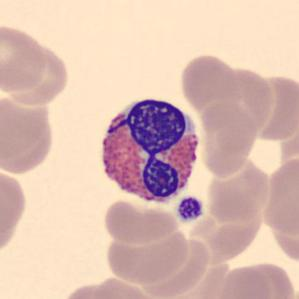Eosinophil: (92, 91, 205, 212)
Platelets: (175, 194, 205, 223)
RBC: (103, 223, 191, 286), (129, 233, 214, 298), (208, 66, 277, 144), (198, 96, 259, 179), (3, 37, 72, 108), (206, 158, 271, 224), (100, 195, 182, 246), (0, 88, 51, 166), (244, 72, 299, 144), (178, 52, 241, 109), (0, 22, 48, 95), (260, 154, 299, 242), (0, 111, 53, 175), (0, 164, 29, 258), (214, 262, 274, 299), (86, 275, 160, 299), (59, 280, 127, 298)
